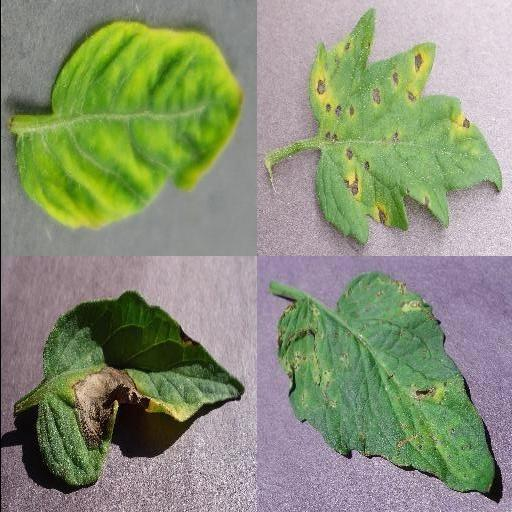Early Blight: (33, 292, 243, 486)
Septoria: (277, 273, 495, 493), (306, 12, 500, 247)
Yellow Leaf Curl Virus: (13, 22, 245, 230)
